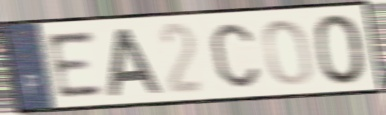2: (159, 20, 206, 97)
A: (106, 26, 164, 98)
C: (209, 20, 262, 90)
E: (43, 28, 108, 101)
O: (312, 11, 370, 87), (261, 17, 315, 88)
